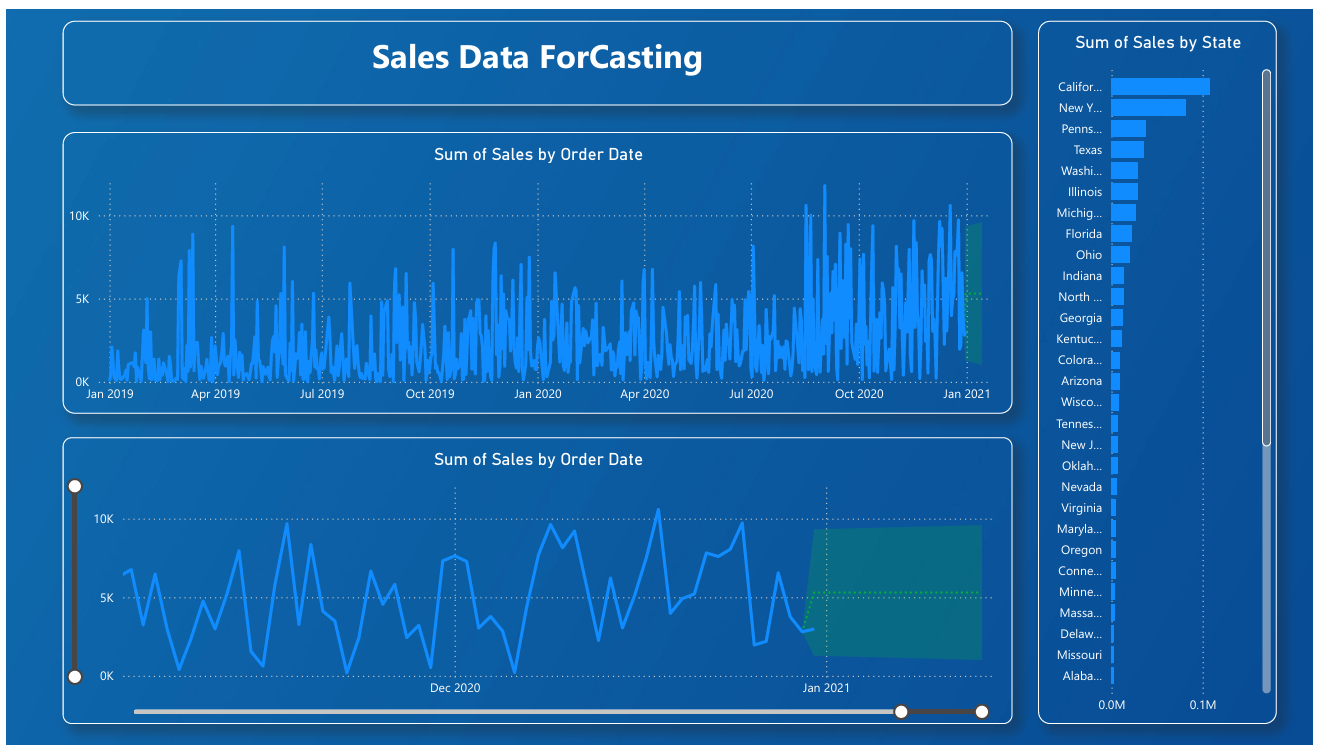

The page's visual inventory and layout, read from the dashboard file:
{"tool":"powerbi","page":{"name":"Page 2","canvas":[1280,720],"ordinal":1},"visuals":[{"type":"lineChart","fields":{"Y":["Sum(SuperStore_Sales_Dataset.Sales)"],"Category":["SuperStore_Sales_Dataset.Order Date"]},"box":[55,120,931.2,276.2],"z":0},{"type":"lineChart","fields":{"Y":["Sum(SuperStore_Sales_Dataset.Sales)"],"Category":["SuperStore_Sales_Dataset.Order Date"]},"box":[55,418.8,931.2,281.2],"z":1000},{"type":"barChart","fields":{"Y":["Sum(SuperStore_Sales_Dataset.Sales)"],"Category":["SuperStore_Sales_Dataset.State"]},"box":[1011.2,11.2,233.8,688.8],"z":2000},{"type":"textbox","box":[55,11.2,931.2,82.5],"z":3000}]}

Visuals, with their boxes in screenshot pixels (x1, y1, x2, y2), scaled from the page's 1280x720 canvas onto the 1321x749 screenshot:
lineChart - Sum(SuperStore_Sales_Dataset.Sales) x SuperStore_Sales_Dataset.Order Date: pyautogui.locateOnScreen(57, 125, 1018, 412)
lineChart - Sum(SuperStore_Sales_Dataset.Sales) x SuperStore_Sales_Dataset.Order Date: pyautogui.locateOnScreen(57, 436, 1018, 728)
barChart - Sum(SuperStore_Sales_Dataset.Sales) x SuperStore_Sales_Dataset.State: pyautogui.locateOnScreen(1044, 12, 1285, 728)
textbox: pyautogui.locateOnScreen(57, 12, 1018, 97)
